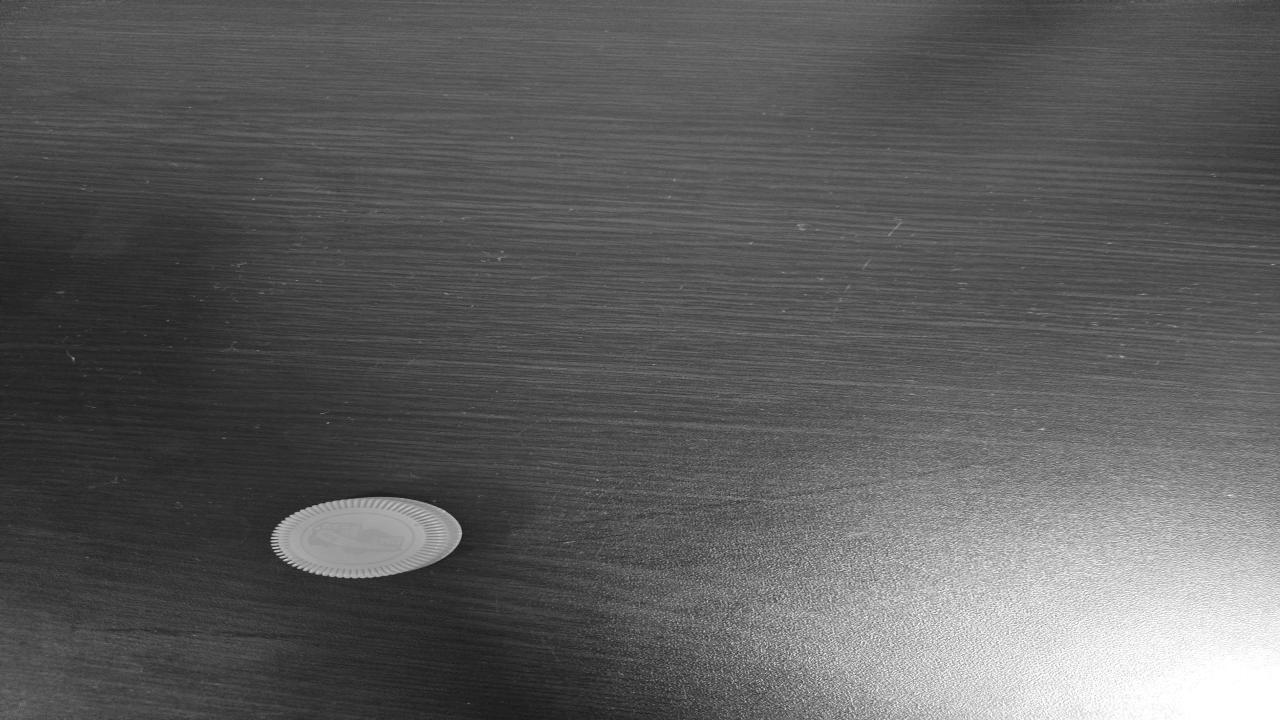bottle_cap: (275, 499, 465, 574)
